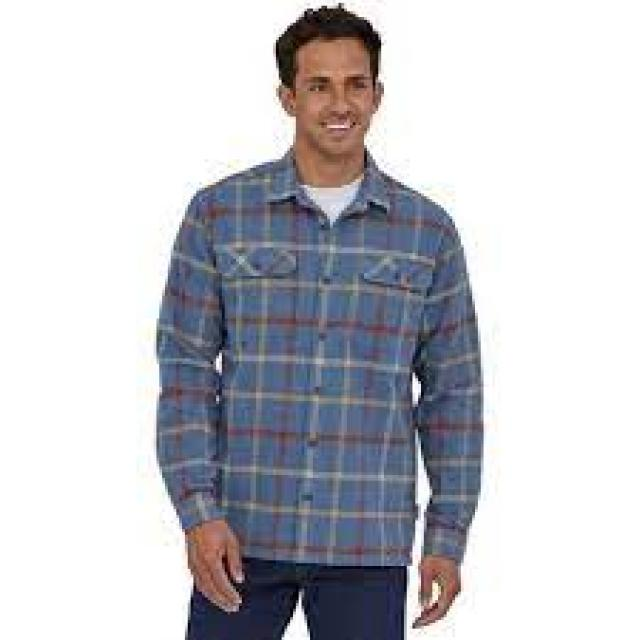plaid: (136, 172, 502, 567)
